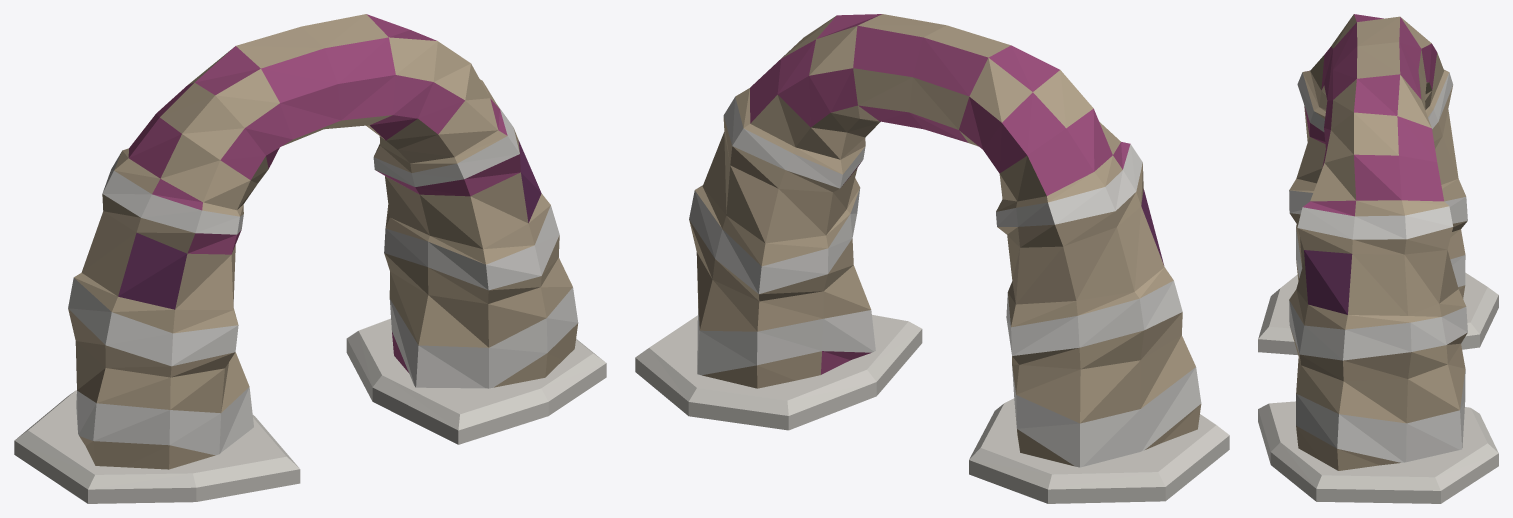
Rendered from aquascape-rock-arch-48bf5e.glb.
3 renders of one model, left to right at view 1: azimuth 30°, elevation 25°; view 2: azimuth 150°, elevation 25°; view 3: azimuth 270°, elevation 25°, orthographic. The views are drawn at different scales.
Parts seen in each view (by area): view 1: rock-arch; view 2: rock-arch; view 3: rock-arch.
Part boxes in pixels (box(x1,y1,x2,y2)): rock-arch: box(14, 14, 606, 503); rock-arch: box(635, 14, 1229, 503); rock-arch: box(1258, 14, 1498, 503).
Bounding box in the file's own units: 0.5 × 0.3444 × 0.2177.
